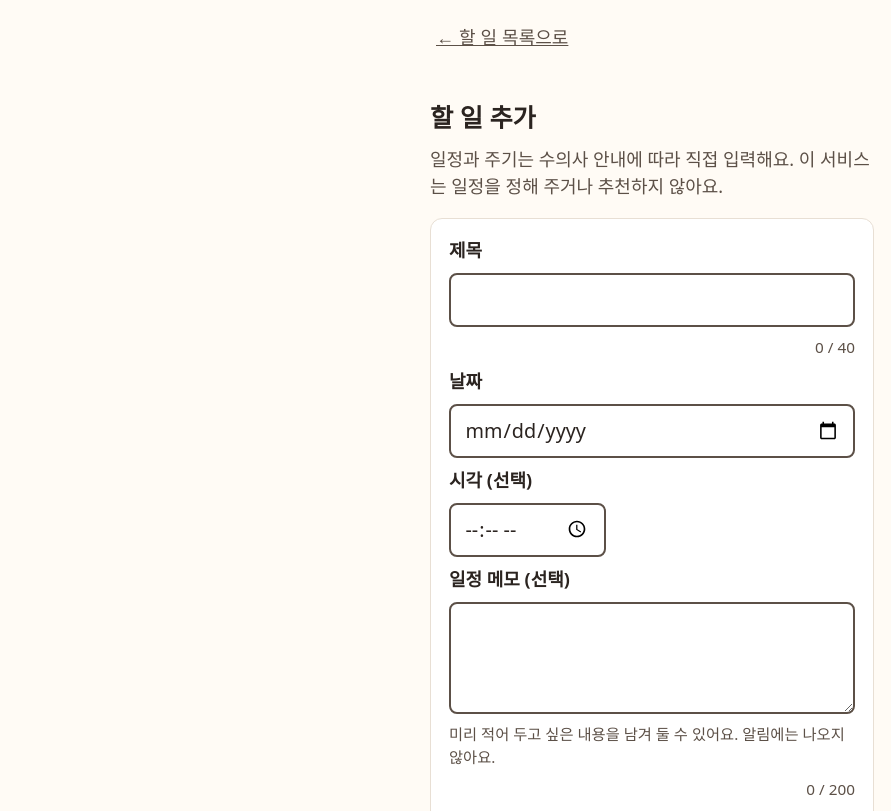
할 일 추가 › 입력을 고친 뒤 목록으로 가려 하면 저장하지 않고 나갈지 묻는다
Type "검진" into the field labelled "제목" at (652, 300), box x1=449 y1=273 x2=855 y2=327
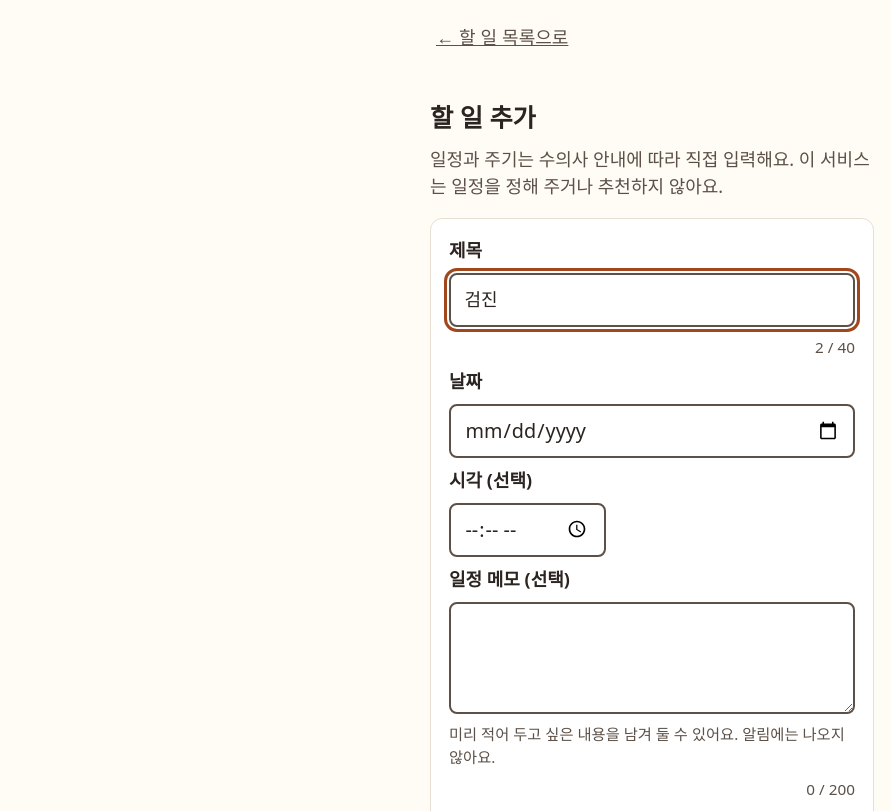
Click the button "← 할 일 목록으로" at (502, 36), box x1=430 y1=9 x2=574 y2=63
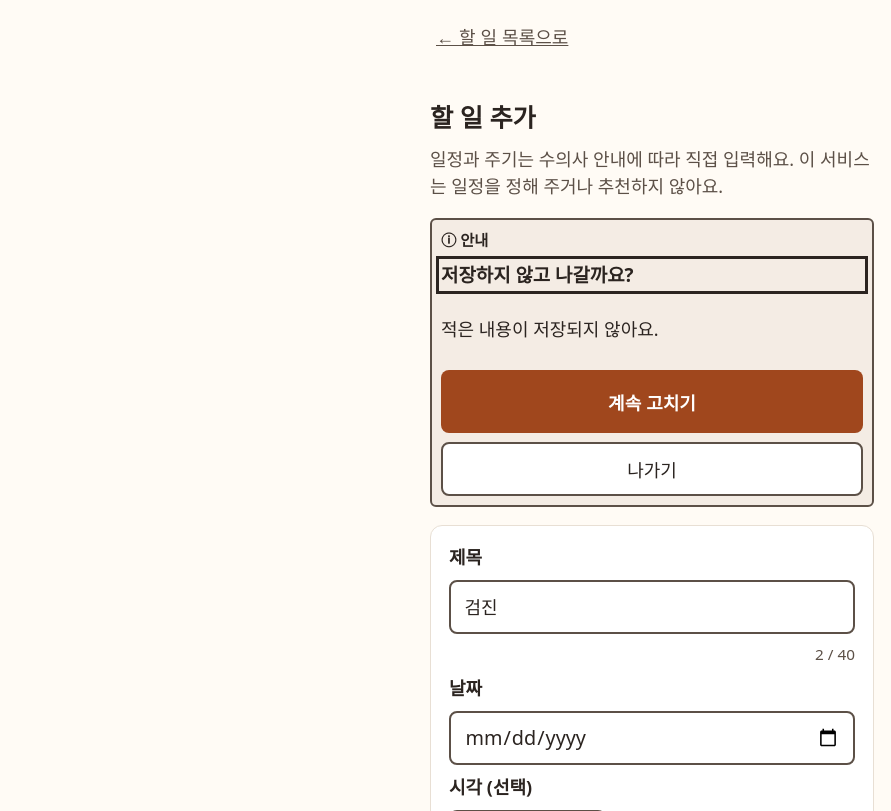
Result: the message "저장하지 않고 나갈까요?" is shown at x1=430 y1=218 x2=874 y2=507
Click the button "계속 고치기" at (652, 402), box x1=441 y1=370 x2=863 y2=433
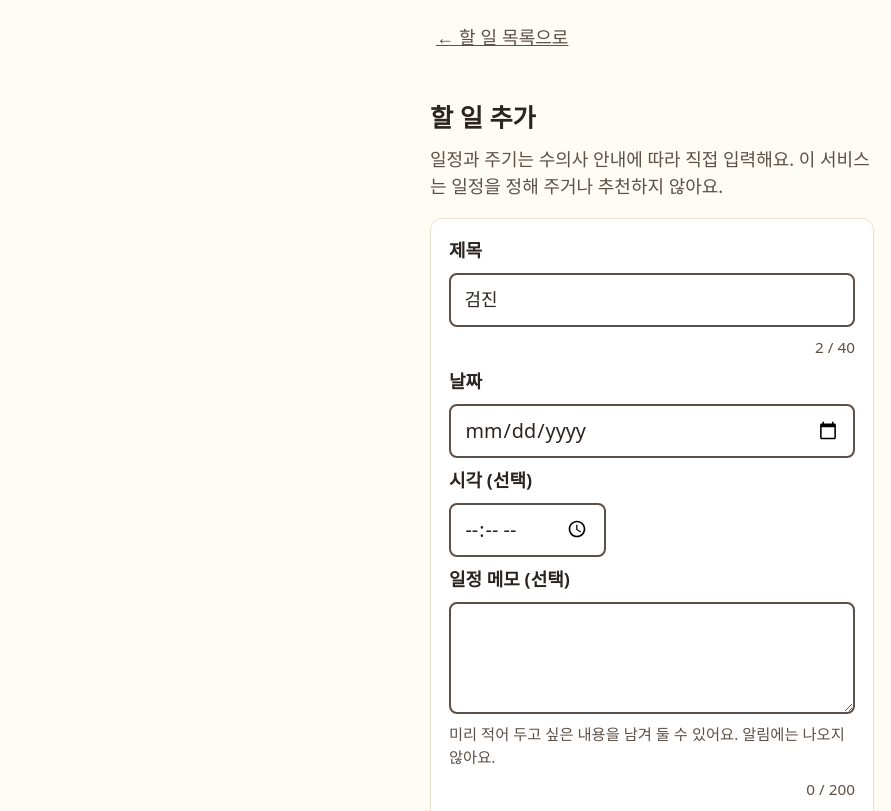
Result: the text "적은 내용이 저장되지 않아요." is gone
Click the button "← 할 일 목록으로" at (502, 36), box x1=430 y1=9 x2=574 y2=63
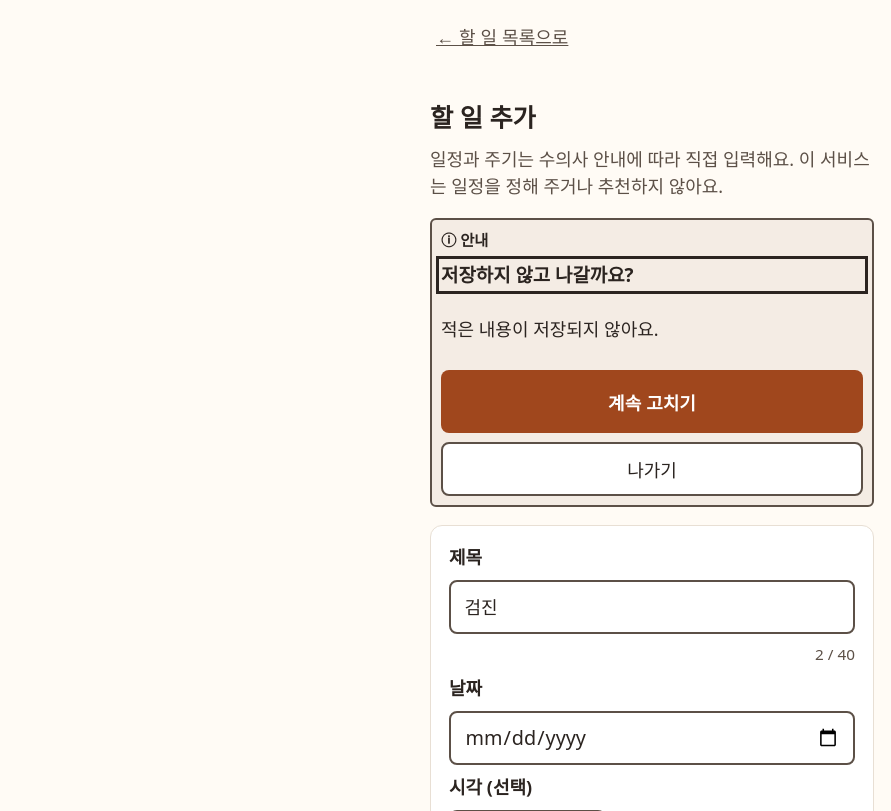
Click the button "나가기" at (652, 469), box x1=441 y1=442 x2=863 y2=496
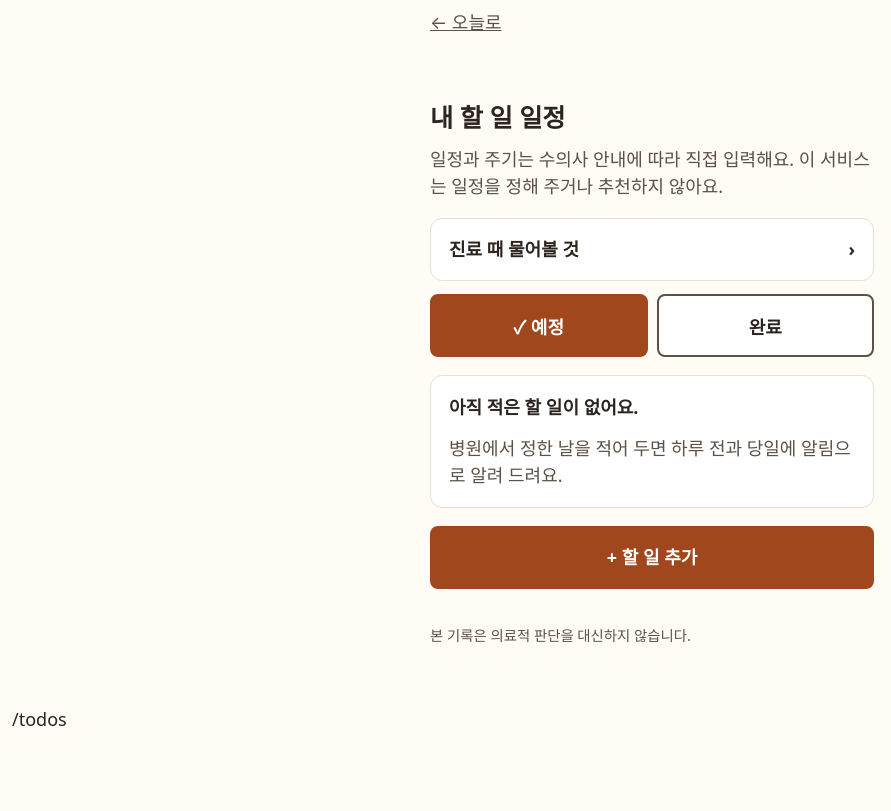
Result: the text with test id "location" reads "/todos" at x1=12 y1=707 x2=67 y2=731
